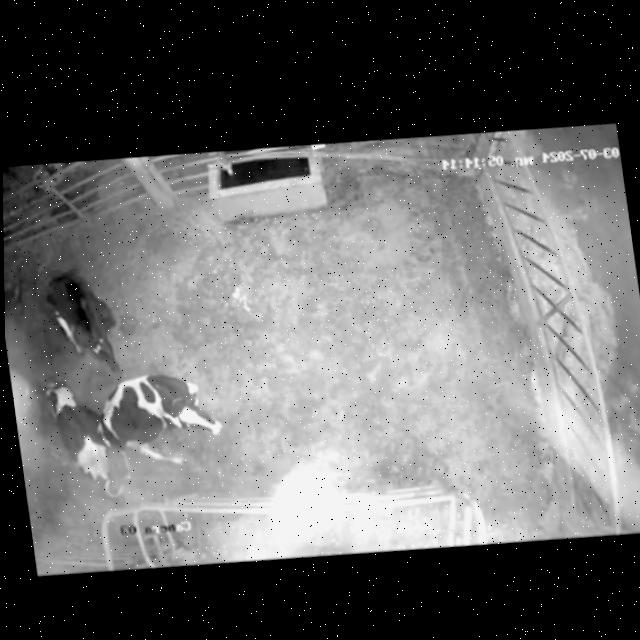lay: (90, 353, 240, 484), (29, 251, 159, 384), (34, 369, 109, 509)
